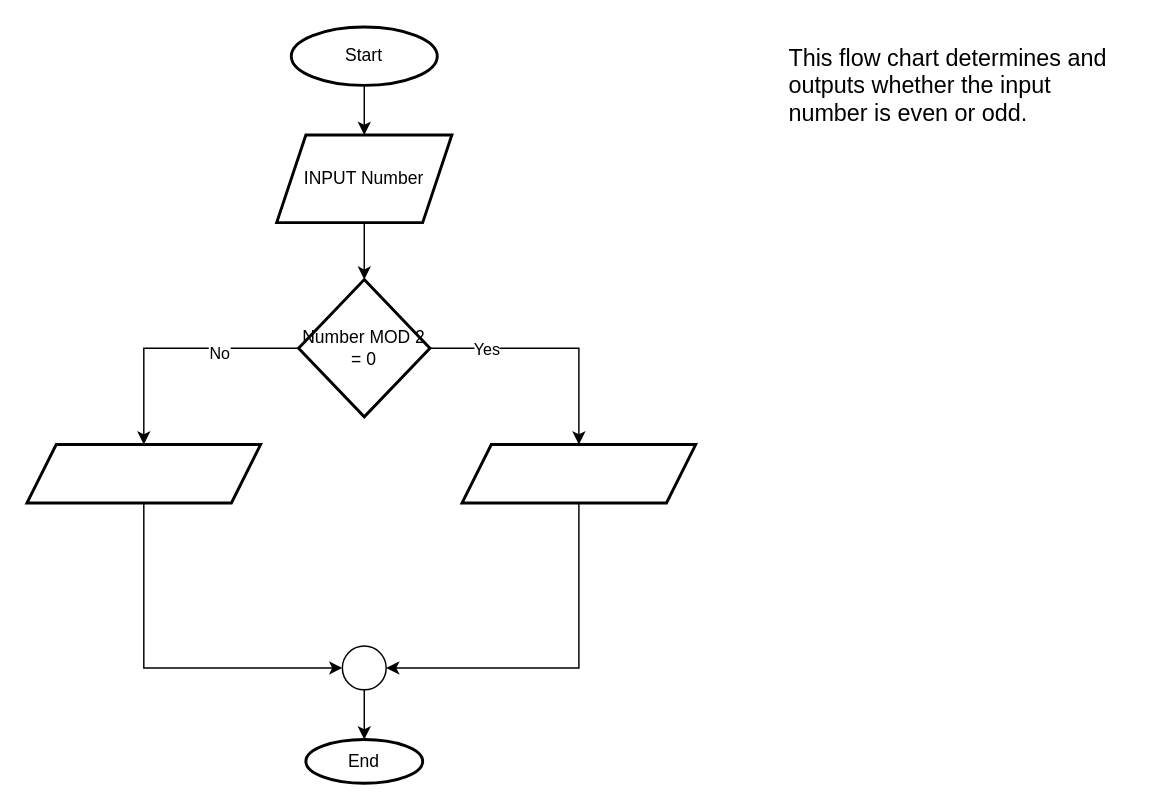
This 1161x809 diagram has some shape labels left out. Here are the shapes that lost their labels. From the top down, the centre of each, then its label:
point (143, 473): OUTPUT "Odd"
point (578, 473): OUTPUT "Even"
